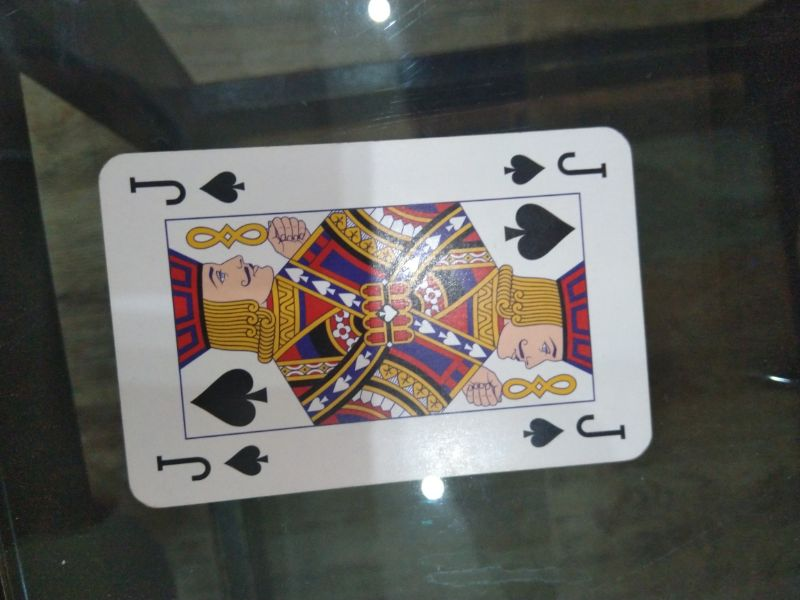Js: (125, 166, 250, 208), (499, 144, 612, 190), (150, 442, 272, 484), (520, 408, 632, 453)
